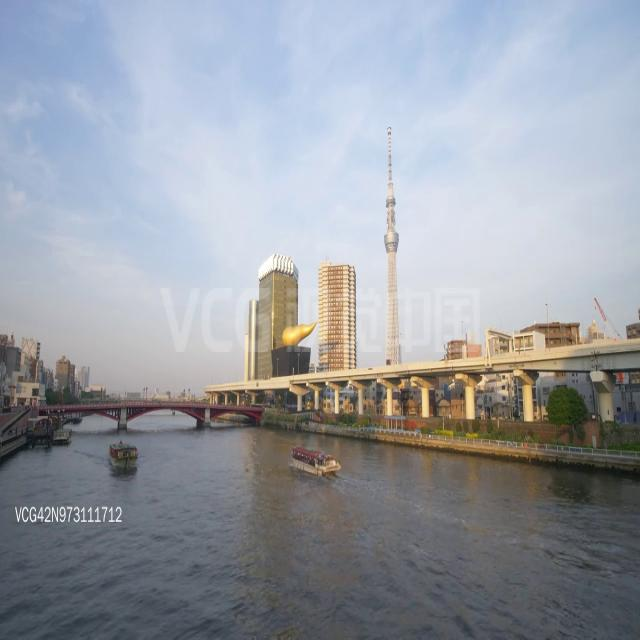passenger ship: (291, 444, 341, 482), (108, 438, 142, 478), (54, 423, 74, 442)
